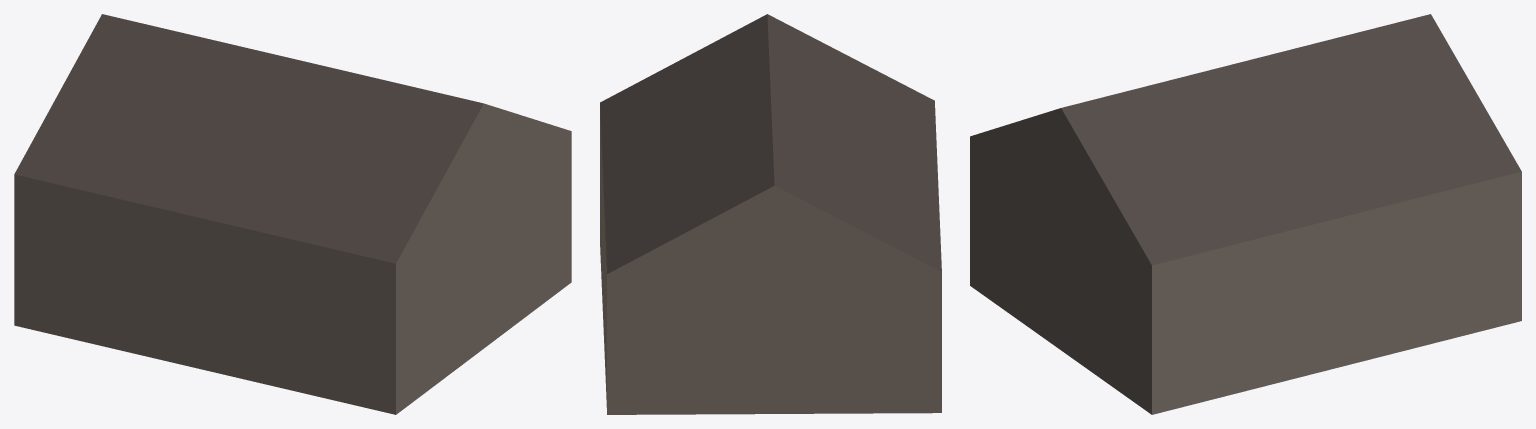
The picture shows the model from 3 angles, left to right: view 1: azimuth 30°, elevation 25°; view 2: azimuth 150°, elevation 25°; view 3: azimuth 270°, elevation 25°; orthographic projection. The views are drawn at different scales.
Parts seen in each view (by area): view 1: HP-w859088448; view 2: HP-w859088448; view 3: HP-w859088448.
Part boxes in pixels (x1,y1,x2,y2): HP-w859088448: [14, 14, 571, 414]; HP-w859088448: [600, 14, 941, 414]; HP-w859088448: [970, 14, 1521, 414].
Size of the model in its own units: 19.21 by 9.74 by 20.08.
